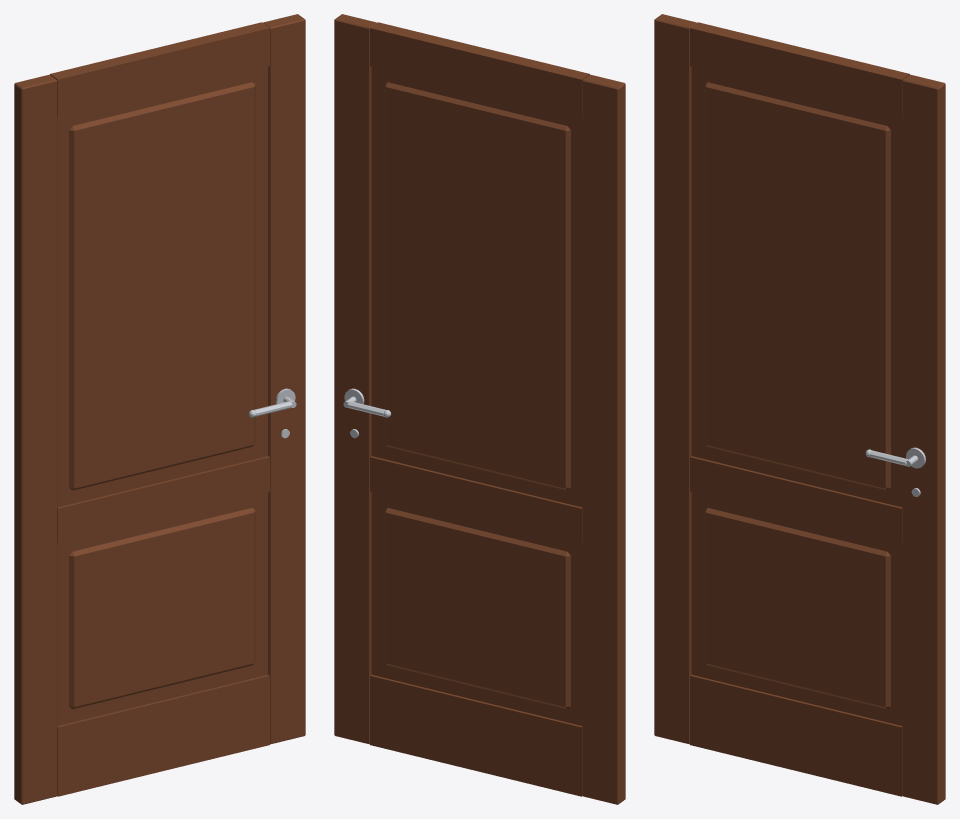
File: porta_classica_2_madeira.glb
The picture shows the model from 3 angles, left to right: view 1: azimuth 30°, elevation 25°; view 2: azimuth 150°, elevation 25°; view 3: azimuth 330°, elevation 25°; orthographic projection.
Visible parts, largest first — view 1: porta_classica_2_madeira; view 2: porta_classica_2_madeira; view 3: porta_classica_2_madeira.
Boxes of the visible parts, x1,y1,x2,y2 form: porta_classica_2_madeira: (14,14,305,804); porta_classica_2_madeira: (334,14,625,804); porta_classica_2_madeira: (654,14,945,804).
Bounding box in the file's own units: 0.86 × 2.07 × 0.143.
